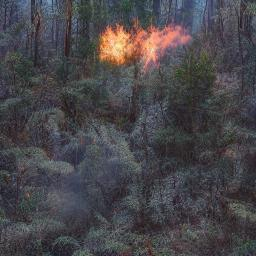Small fire: (98, 22, 195, 70)
